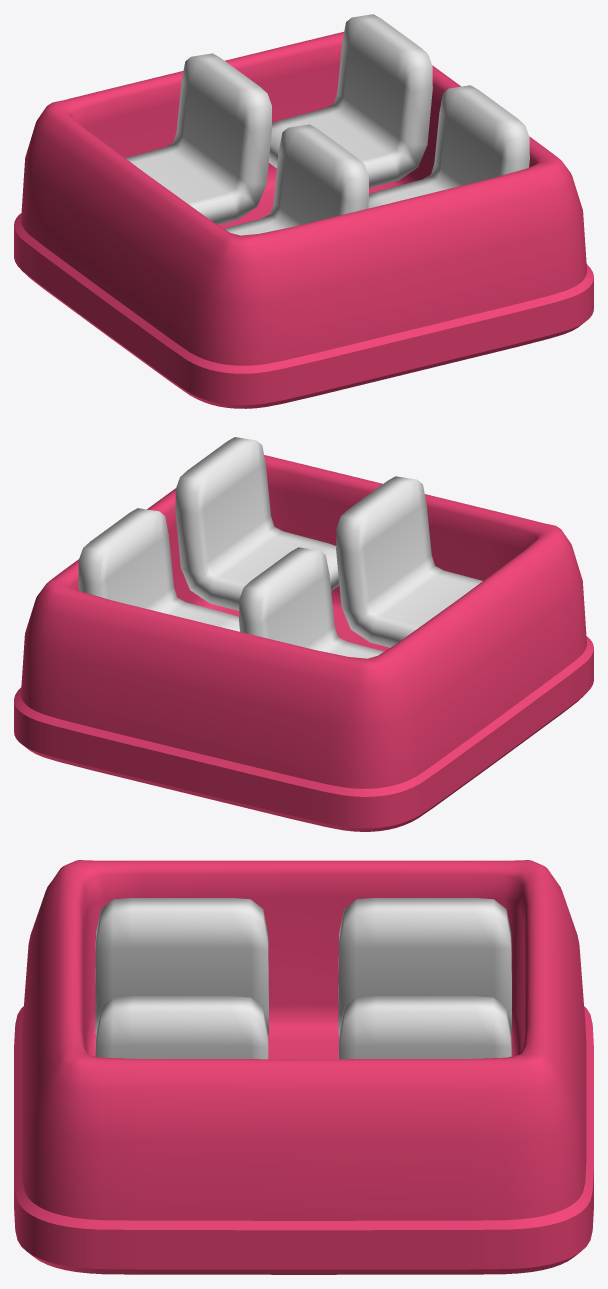
File: car_l_1_T2.fbx
3 views of the same model, one above another, from view 1: azimuth 30°, elevation 25°; view 2: azimuth 150°, elevation 25°; view 3: azimuth 270°, elevation 25° (orthographic). The views are drawn at different scales.
Visible parts, largest first — view 1: Cube.170, Cube.171; view 2: Cube.170, Cube.171; view 3: Cube.170, Cube.171.
Boxes of the visible parts, <box> form: Cube.170: <box>14,32,593,408</box>; Cube.171: <box>125,14,529,235</box>; Cube.170: <box>14,455,593,831</box>; Cube.171: <box>78,437,482,658</box>; Cube.170: <box>14,860,593,1274</box>; Cube.171: <box>95,898,511,1059</box>.
Size of the model in its own units: 184 by 83.45 by 184.
